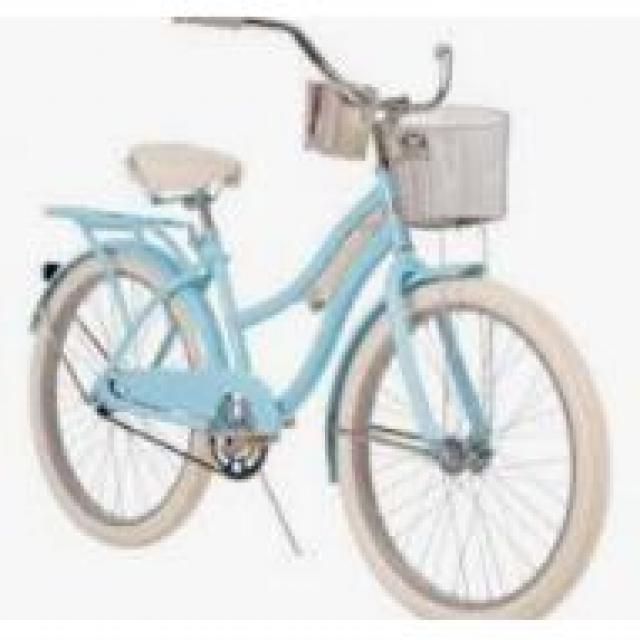bicycle: (21, 11, 614, 621)
